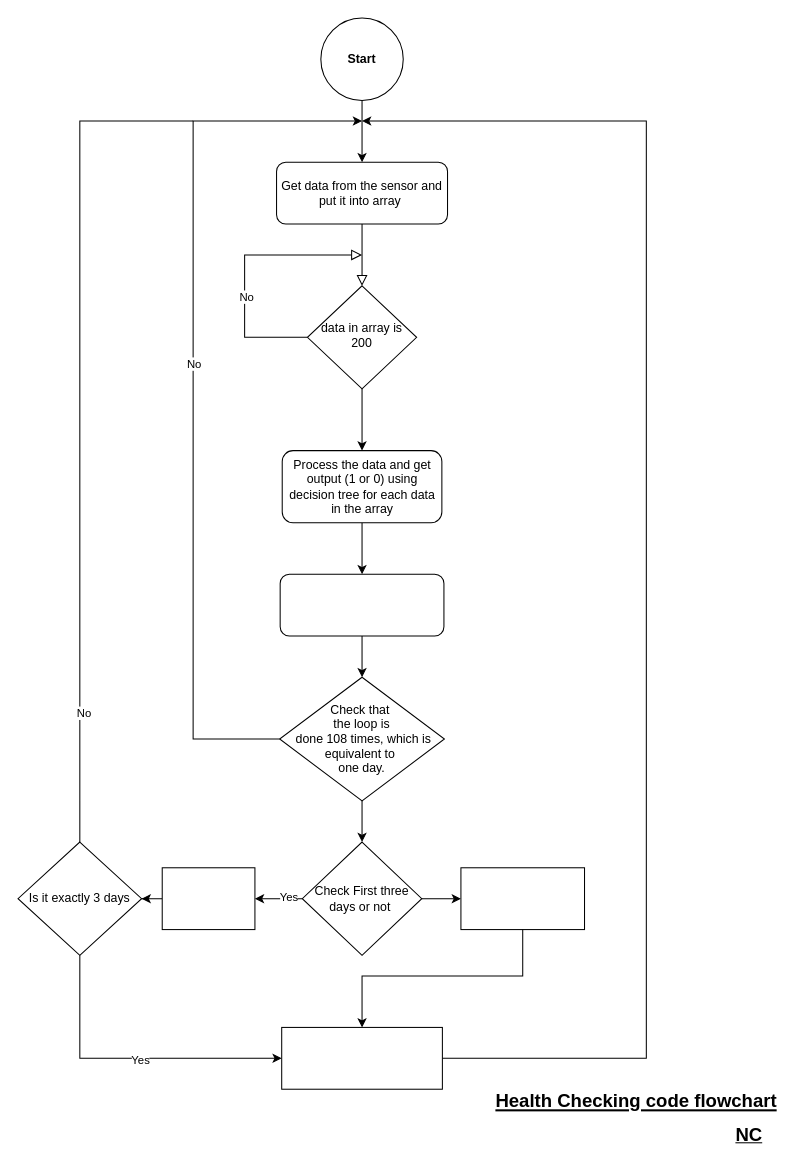
The diagram is 798 pixels wide and 1169 high, and some of its shapes have lost their labels. Each missing label, with the centre of its shape:
add the reslt '1' to the variable that create for checking the total no of 1: [361,604]
Compare the value and put it into the result array for the data storing: [361,1057]
remove the first index in the array and put the new day value: [522,898]
Store it into the array: [208,898]
